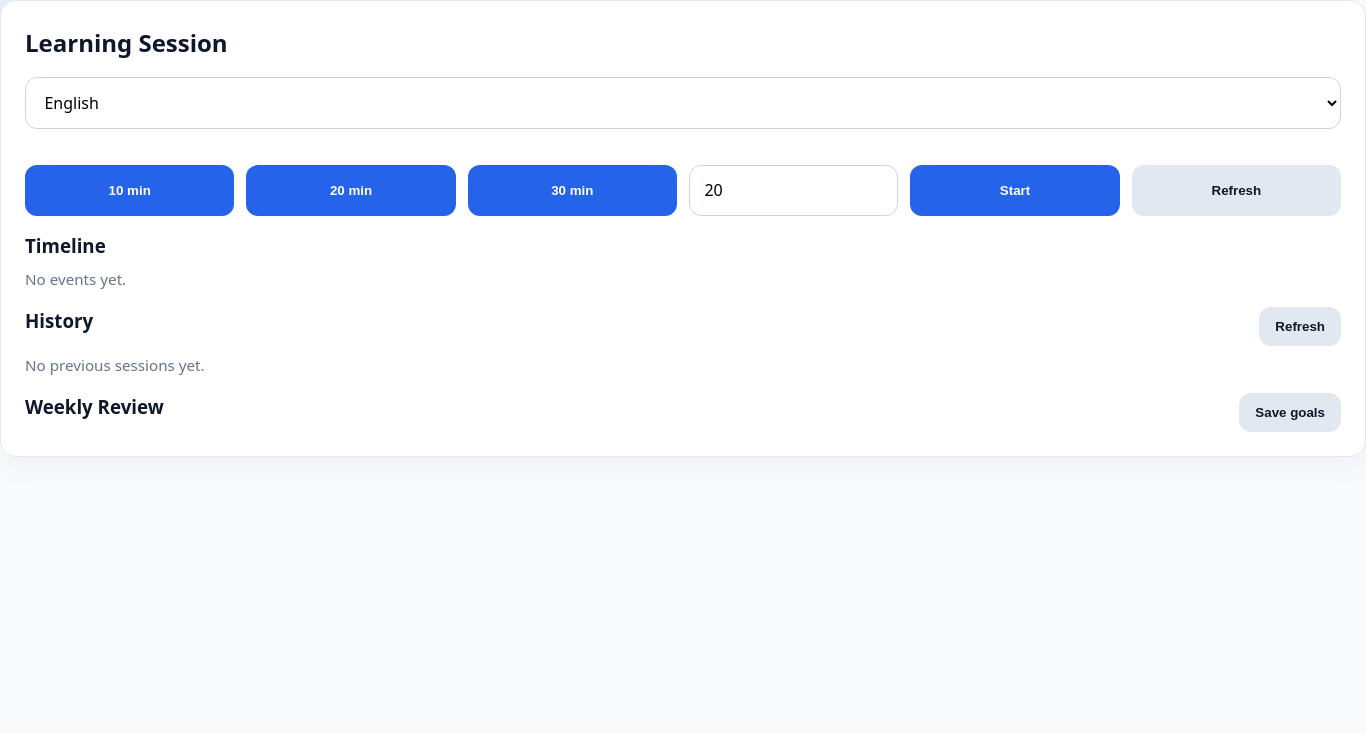
Test: LearningSessionPanel.vue › does not let a slow previous-language reload overwrite the current language
Select "Japanese" in the dropdown named "Language": (683, 103) [25,77,1341,129]
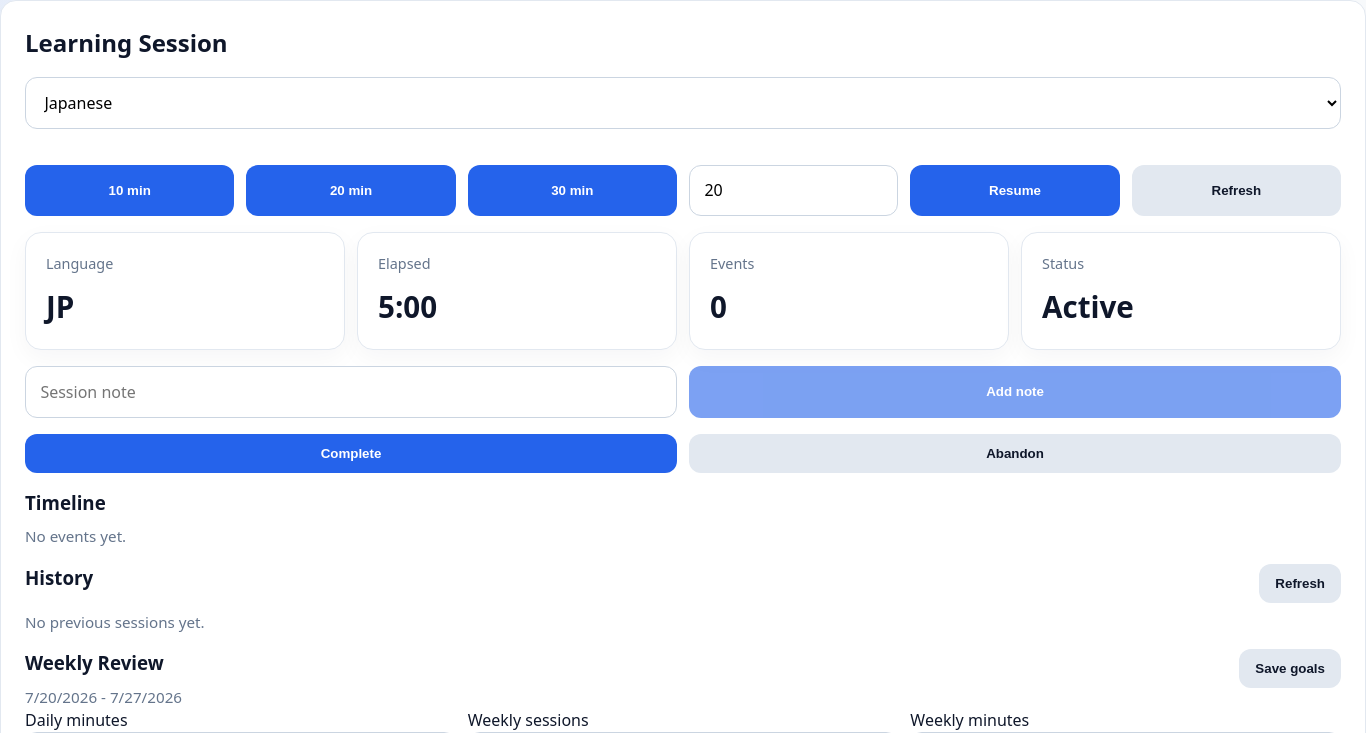
Expected: the text "JP" is shown, [46,286,74,327]
